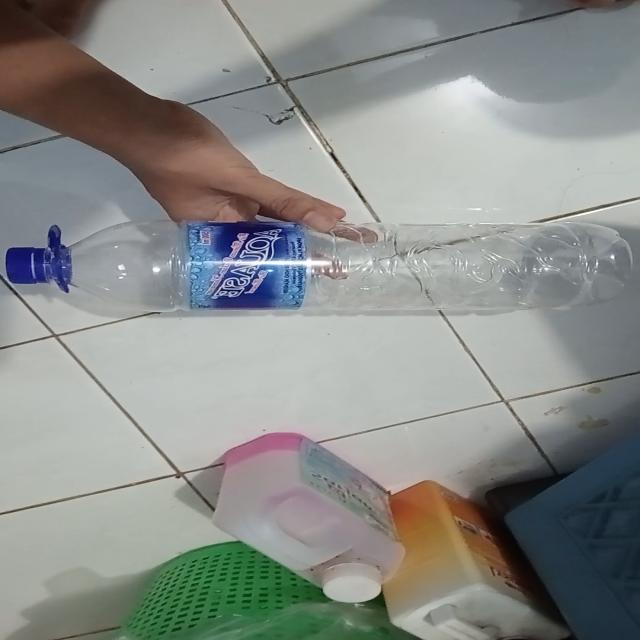Botol bekas: (5, 219, 633, 318)
